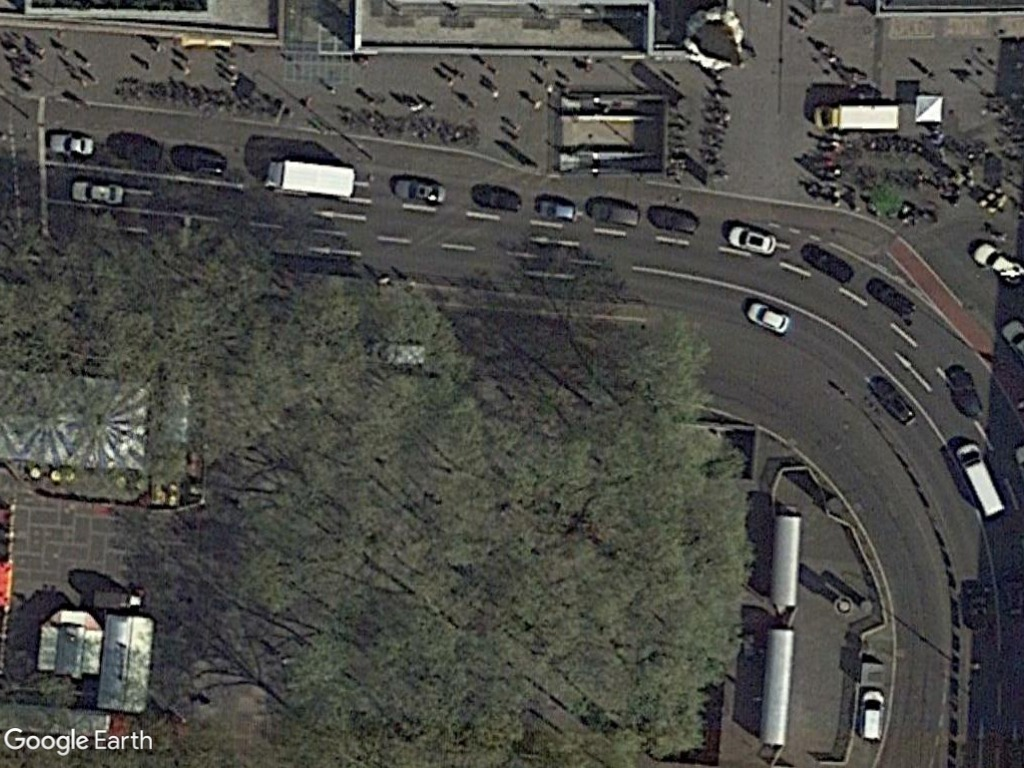car: (579, 191, 648, 234), (719, 215, 781, 262), (736, 287, 793, 337), (969, 237, 1024, 288), (643, 192, 699, 242), (528, 185, 585, 231), (64, 177, 138, 210), (35, 124, 99, 162), (391, 170, 449, 211), (472, 179, 527, 220), (855, 681, 888, 748)
truck: (949, 434, 1012, 525), (259, 151, 360, 205), (804, 94, 906, 141)
